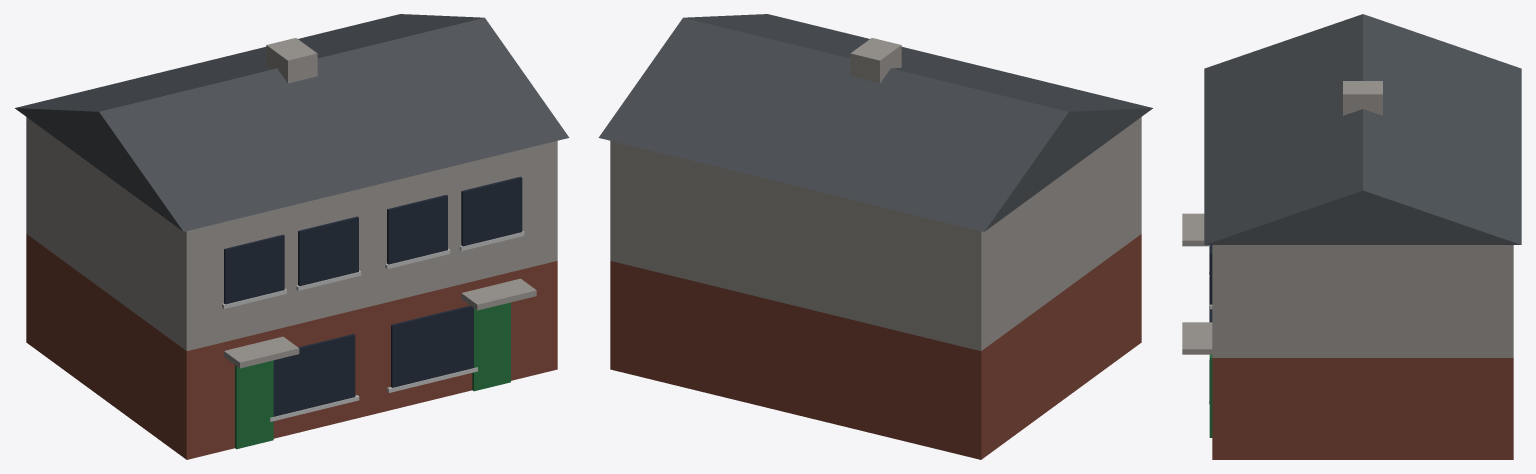
Rendered from building_london_s3_council_terrace.glb.
3 views of the same model, side by side, from view 1: azimuth 30°, elevation 25°; view 2: azimuth 150°, elevation 25°; view 3: azimuth 270°, elevation 25° (orthographic). The views are drawn at different scales.
Parts seen in each view (by area): view 1: building_london_s3_council_terrace; view 2: building_london_s3_council_terrace; view 3: building_london_s3_council_terrace.
Boxes of the visible parts, box(x1,y1,x2,y2) form: building_london_s3_council_terrace: box(15, 14, 569, 459); building_london_s3_council_terrace: box(598, 14, 1152, 459); building_london_s3_council_terrace: box(1182, 14, 1521, 459).
Size of the model in its own units: 10.4 by 7.9 by 8.45.
Materials: 1 (1 with a texture image).
